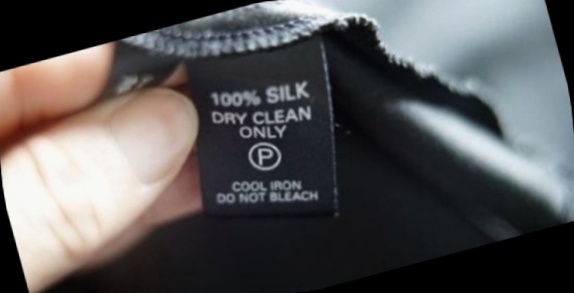dry_clean_any_solvent_except_trichloroethylene: (242, 133, 290, 178)
